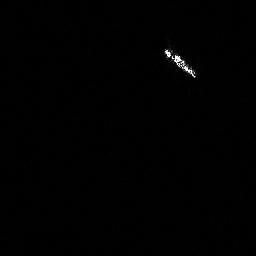ship: (160, 45, 200, 80)
